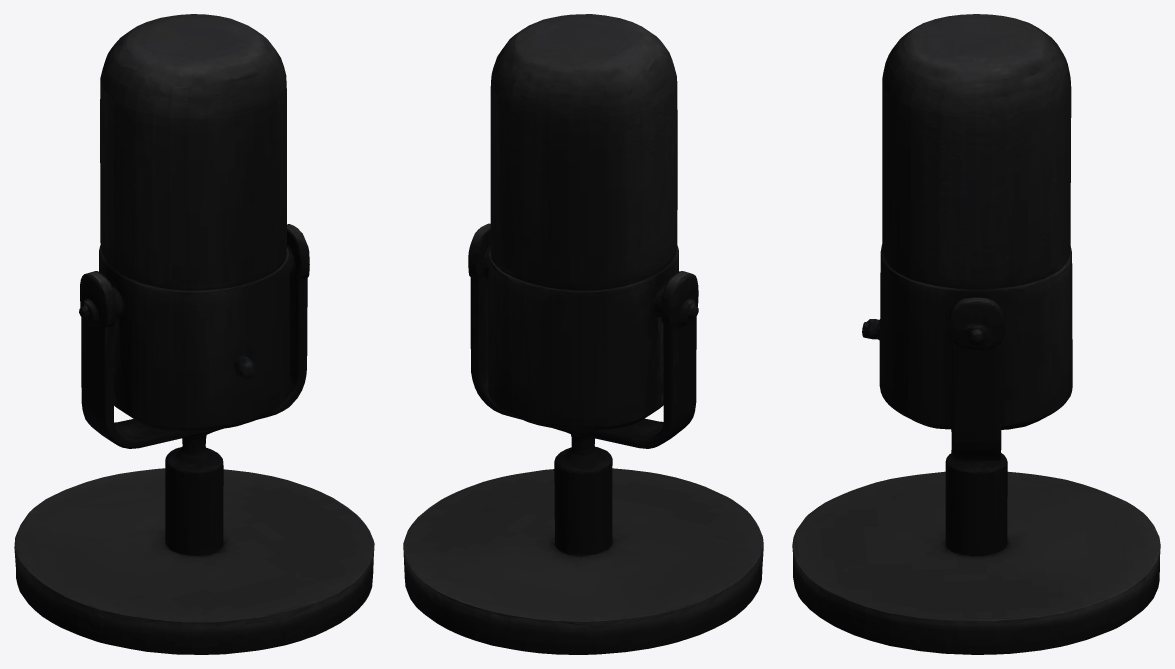
File: microphone_on_stand_black.glb
The picture shows the model from 3 angles, left to right: view 1: azimuth 30°, elevation 25°; view 2: azimuth 150°, elevation 25°; view 3: azimuth 270°, elevation 25°; orthographic projection.
Parts seen in each view (by area): view 1: geometry_0; view 2: geometry_0; view 3: geometry_0.
Part boxes in pixels (x1,y1,x2,y2): geometry_0: [14, 14, 374, 654]; geometry_0: [403, 14, 763, 654]; geometry_0: [792, 14, 1160, 654].
Size of the model in its own units: 0.5925 by 0.9995 by 0.6138.
Materials: 1 (1 with a texture image).
